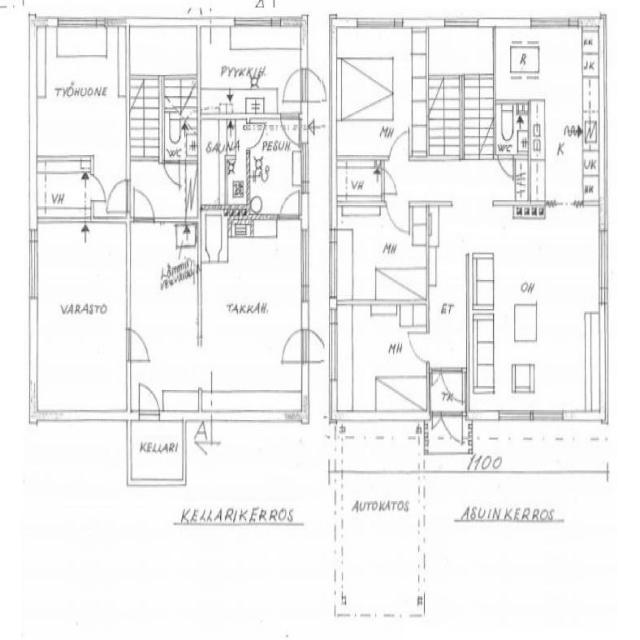door: (276, 325, 308, 369), (124, 325, 154, 368), (134, 379, 162, 425), (104, 175, 131, 219), (384, 196, 412, 238), (438, 366, 466, 405), (440, 408, 466, 447), (405, 328, 432, 365), (388, 127, 412, 166), (132, 186, 156, 224), (282, 65, 304, 105), (303, 68, 326, 105), (278, 188, 302, 221), (84, 172, 107, 204), (162, 158, 184, 191), (280, 115, 302, 146), (246, 120, 266, 152), (496, 152, 515, 180), (381, 168, 398, 196), (197, 244, 214, 265)
window: (296, 224, 313, 326), (122, 232, 136, 329), (24, 230, 41, 304), (294, 140, 310, 194), (529, 405, 567, 425), (354, 15, 397, 32), (56, 14, 100, 30), (550, 197, 580, 215)
zone: (469, 213, 603, 421), (198, 215, 306, 408), (31, 218, 129, 422), (128, 218, 198, 418), (33, 23, 128, 167), (330, 302, 429, 418), (336, 26, 422, 158), (332, 207, 430, 305), (200, 24, 304, 116), (530, 99, 603, 204), (493, 28, 587, 99), (248, 116, 302, 218), (200, 116, 249, 212), (128, 418, 186, 487), (129, 26, 198, 79), (34, 160, 90, 222), (426, 26, 491, 77), (337, 161, 383, 212), (496, 101, 530, 157), (200, 208, 227, 264), (166, 111, 197, 159), (582, 142, 601, 189), (582, 169, 602, 204)
